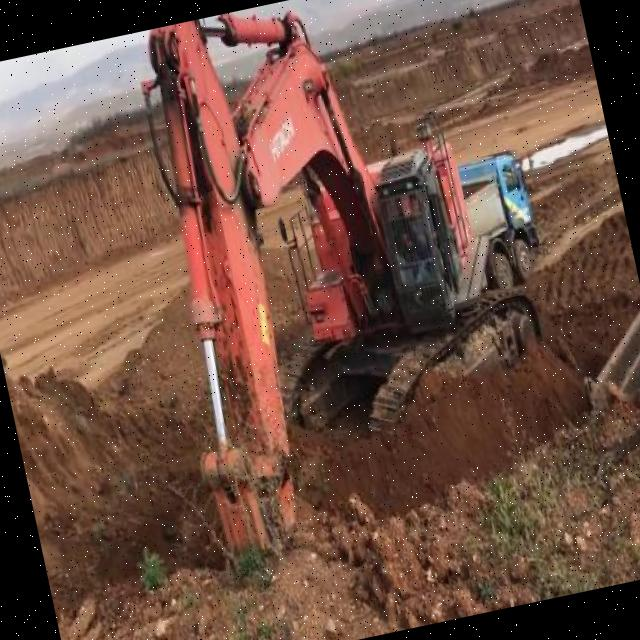Dump Truck: (455, 148, 546, 294)
Excavator: (106, 0, 577, 581)
